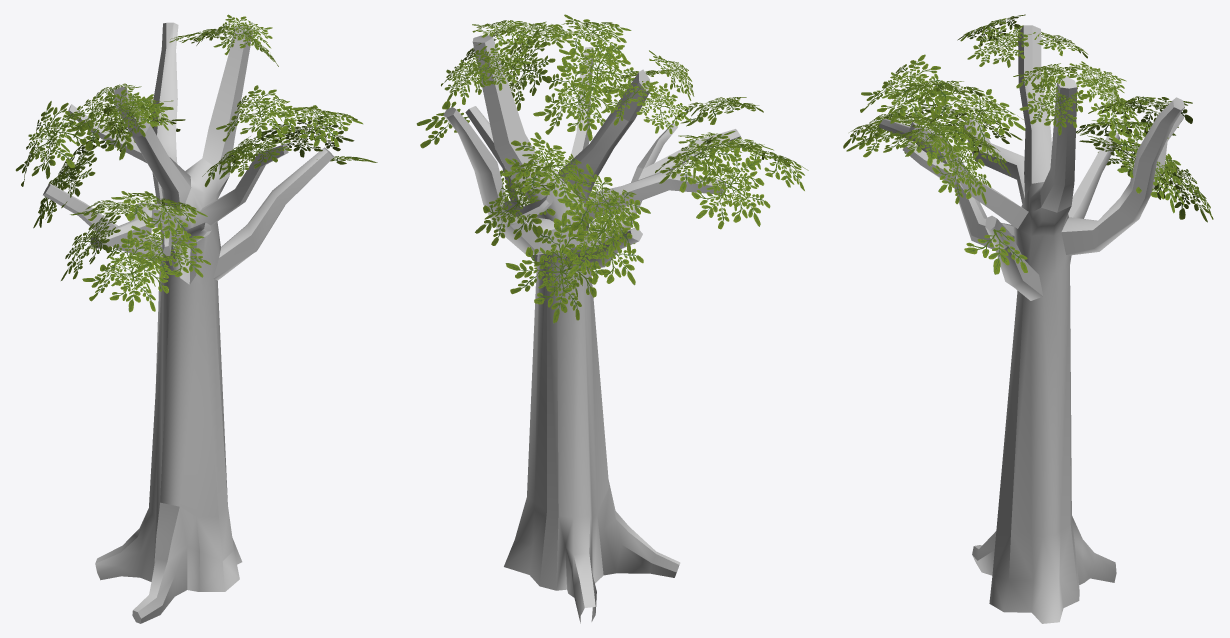
The model's file is Kauri Hub_Tree.fbx.
3 renders of one model, left to right at view 1: azimuth 30°, elevation 25°; view 2: azimuth 150°, elevation 25°; view 3: azimuth 270°, elevation 25°, orthographic. The views are drawn at different scales.
Visible parts, largest first — view 1: Kauri_Tree; view 2: Kauri_Tree; view 3: Kauri_Tree.
Boxes of the visible parts, bbox=[...] form: Kauri_Tree: bbox=[15, 14, 377, 623]; Kauri_Tree: bbox=[416, 14, 808, 623]; Kauri_Tree: bbox=[843, 14, 1213, 623].
Size of the model in its own units: 34.26 by 52.12 by 31.15.
